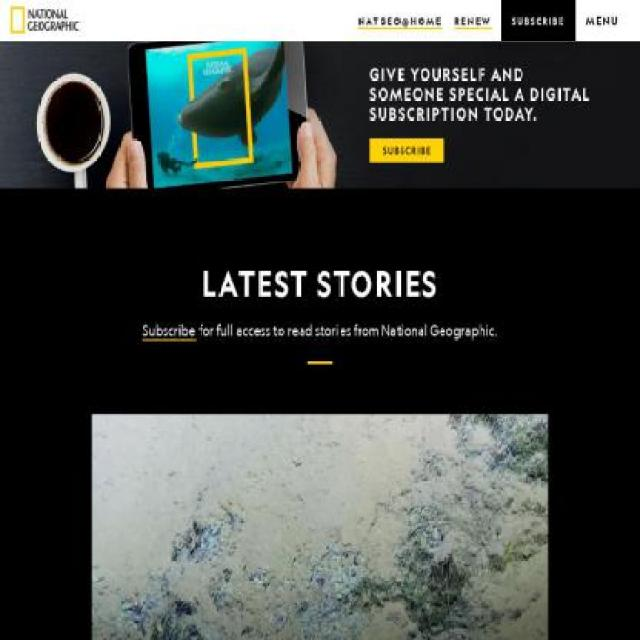button: (0, 42, 640, 189), (10, 0, 79, 40), (501, 7, 576, 36), (358, 14, 442, 29), (141, 320, 197, 342), (585, 12, 630, 30), (454, 14, 492, 29), (334, 0, 346, 40), (314, 12, 324, 26)
